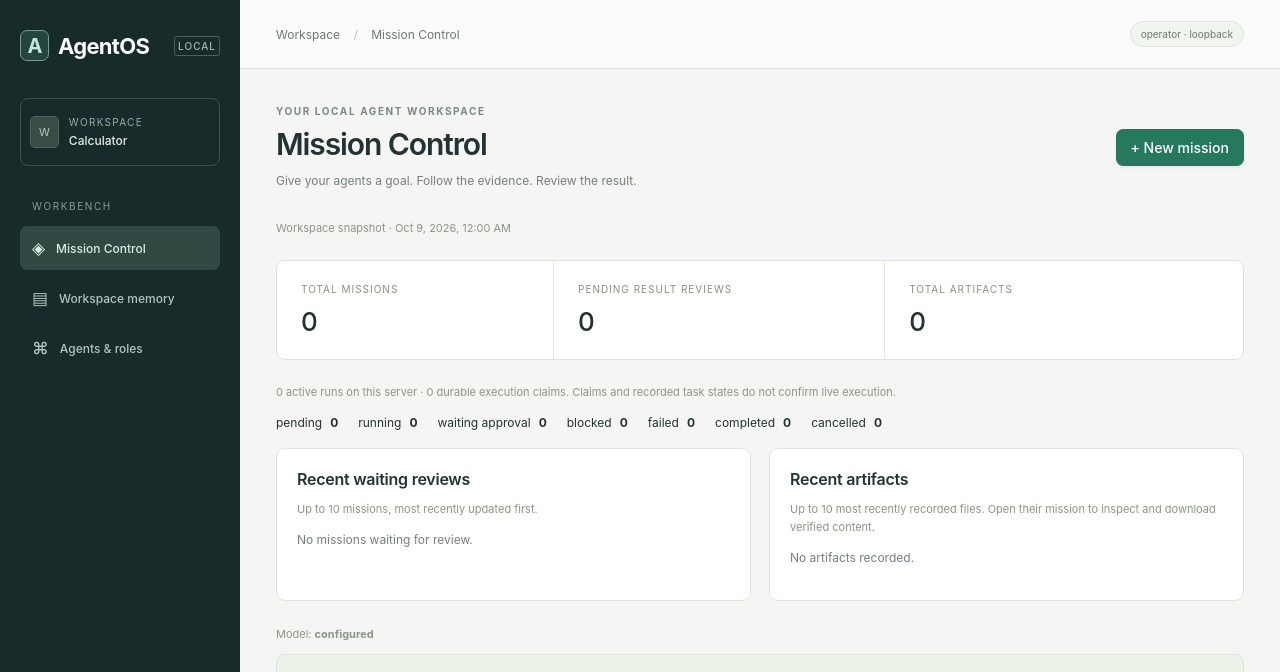
Test: creates a mission and exposes API failures
Click the button "+ New mission": (1180, 148) [1116,129,1244,166]
(page scrolled)
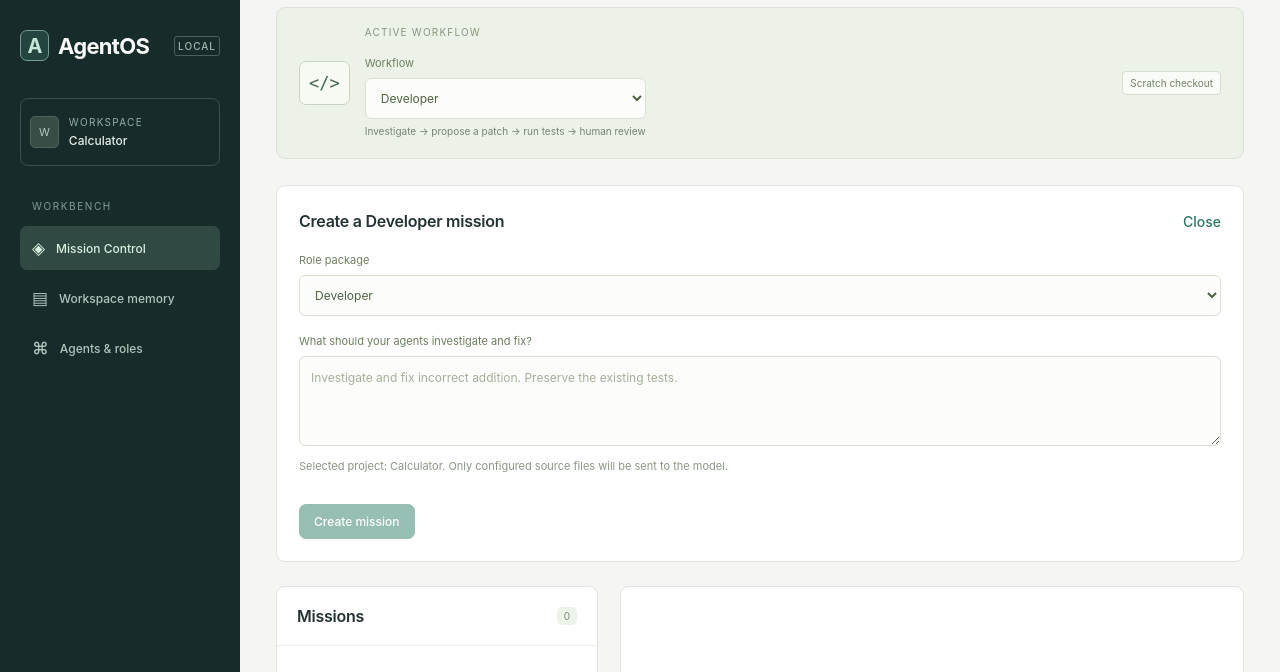
In the text box labelled "What should your agents investigate and fix?": (760, 401) [299,356,1221,446], type "Fix the calculator"
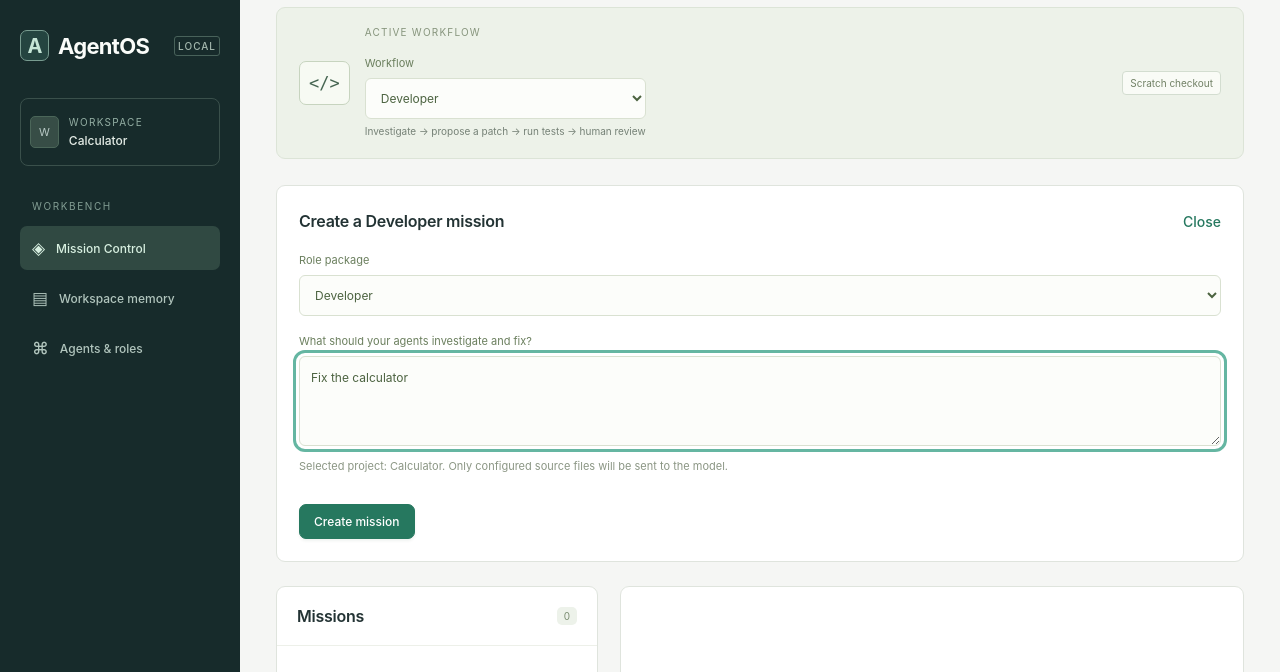
Click the button "Create mission": (357, 521) [299,504,414,539]
(page scrolled)
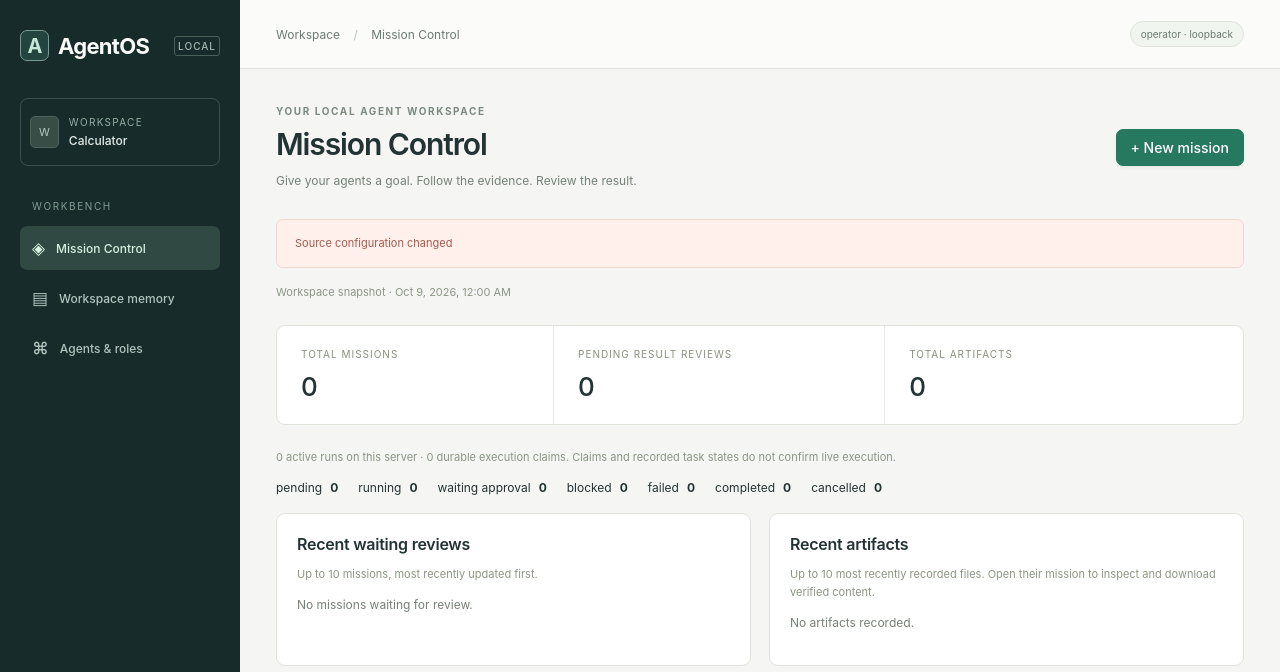
Expected: the message reads "Source configuration changed", [295,236,452,250]
